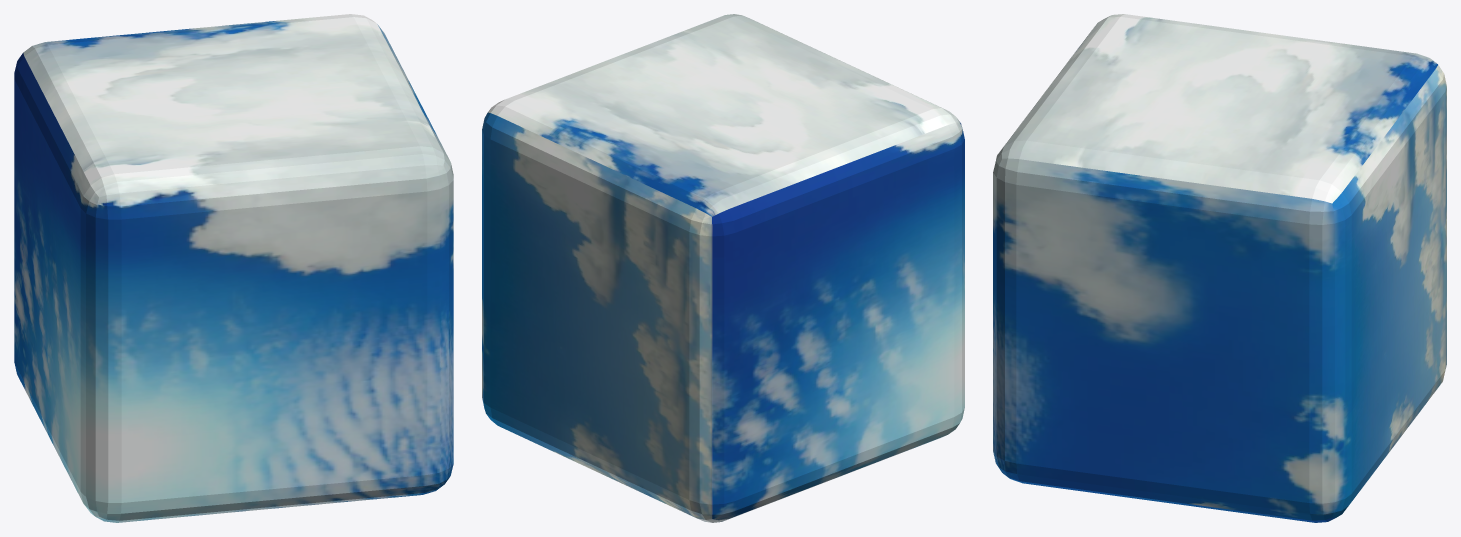
Rendered from 010_Candy_Box_03.fbx.
3 renders of one model, left to right at view 1: azimuth 30°, elevation 25°; view 2: azimuth 150°, elevation 25°; view 3: azimuth 270°, elevation 25°, orthographic. The views are drawn at different scales.
Visible parts, largest first — view 1: Cube.005; view 2: Cube.005; view 3: Cube.005.
Boxes of the visible parts, x1=… form: Cube.005: x1=14, y1=14, x2=453, y2=522; Cube.005: x1=482, y1=14, x2=964, y2=522; Cube.005: x1=993, y1=14, x2=1446, y2=522.
Bounding box in the file's own units: 137 × 113 × 137.
